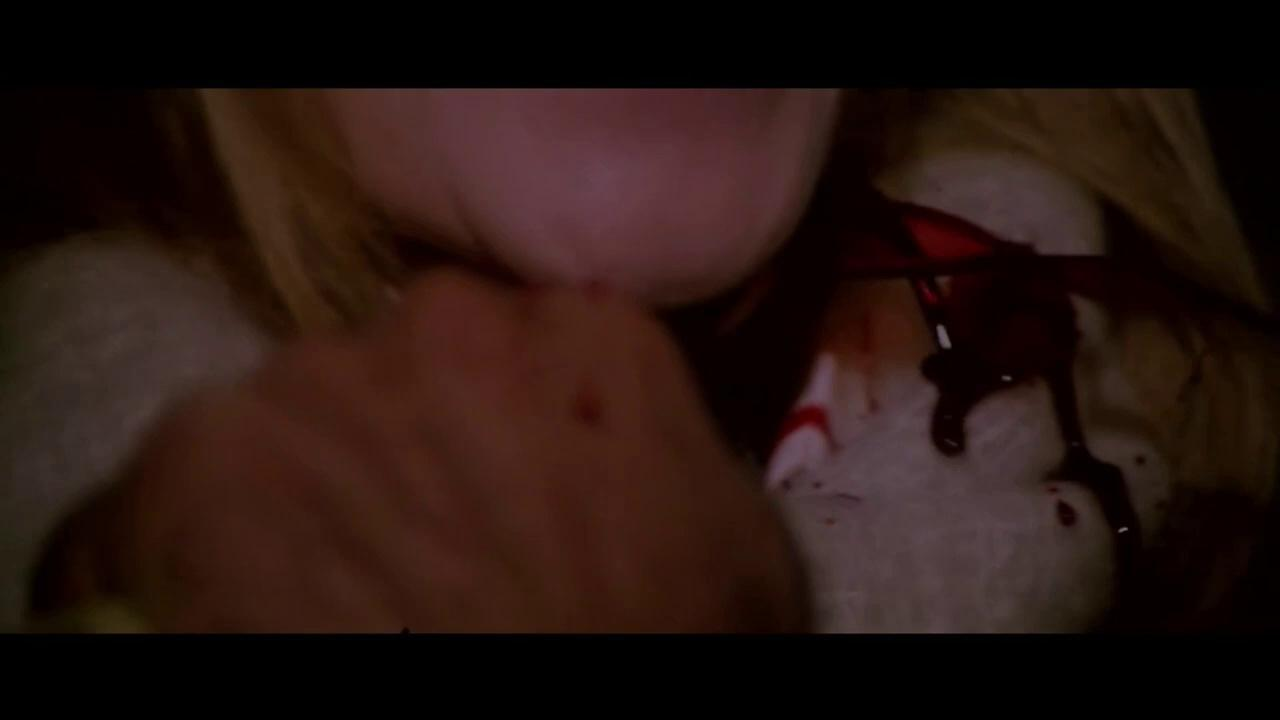Fire: (766, 183, 1280, 566)
